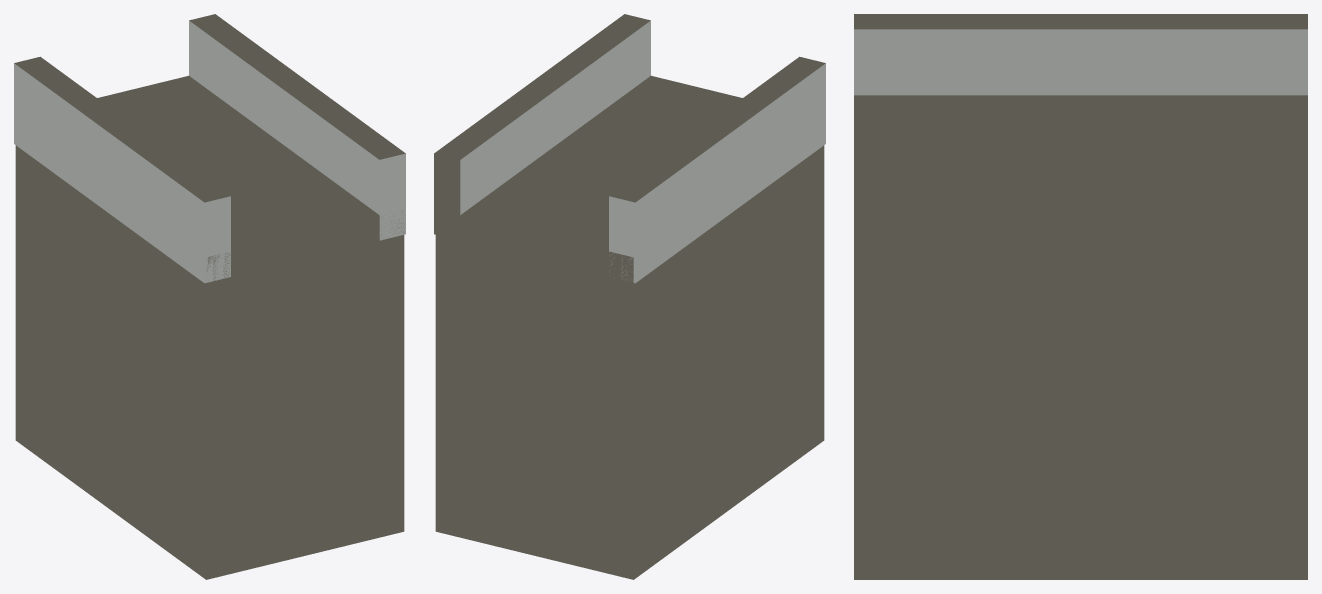
The model's file is RisingPlatformLargeCollision.obj.
3 renders of one model, left to right at view 1: azimuth 30°, elevation 25°; view 2: azimuth 150°, elevation 25°; view 3: azimuth 270°, elevation 25°, orthographic. The views are drawn at different scales.
Size of the model in its own units: 305 by 547 by 500.
2 materials, 2 textured.
